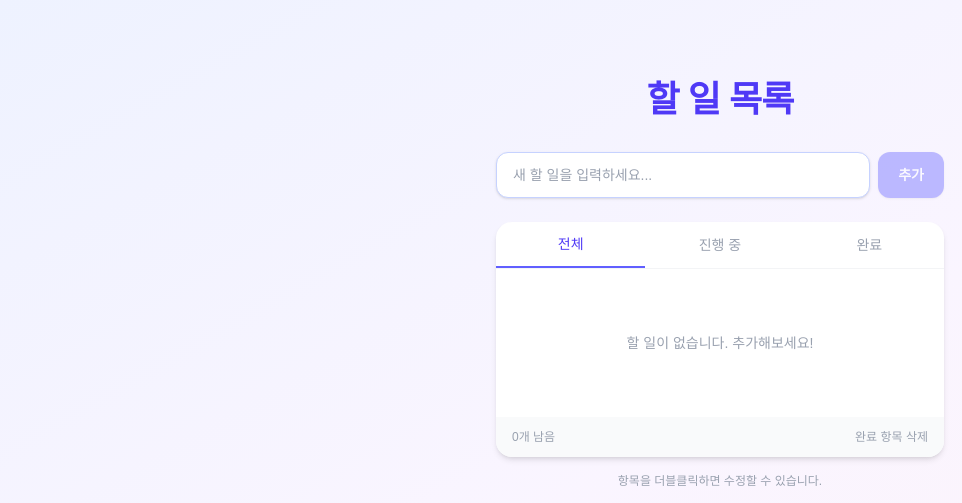
Home 페이지 › 할 일 추가 › Enter 키로 할 일을 추가한다
The width and height of the screenshot is (962, 503).
Type "엔터로 추가" into the field with placeholder "새 할 일을 입력하세요..." at point(683, 175), box [496, 152, 870, 198]
Then press Enter
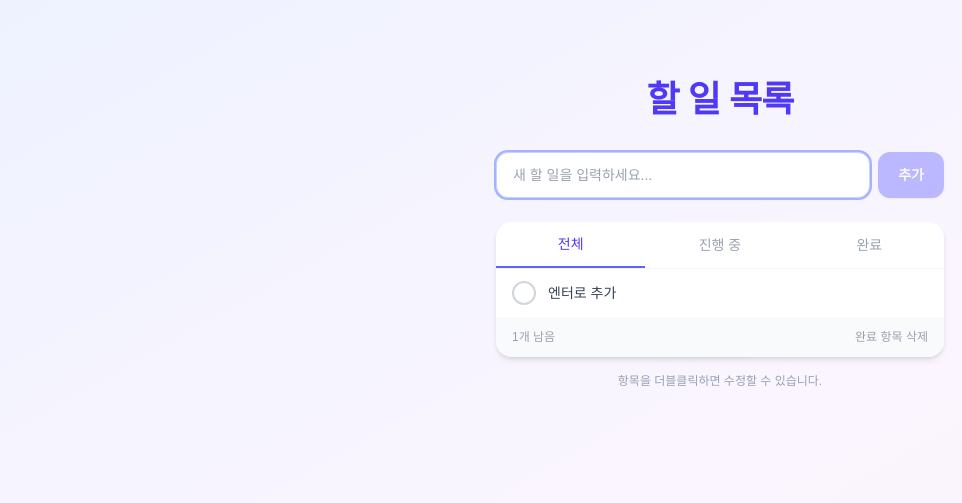
Check: the text "엔터로 추가" is shown, box [548, 285, 616, 301]
